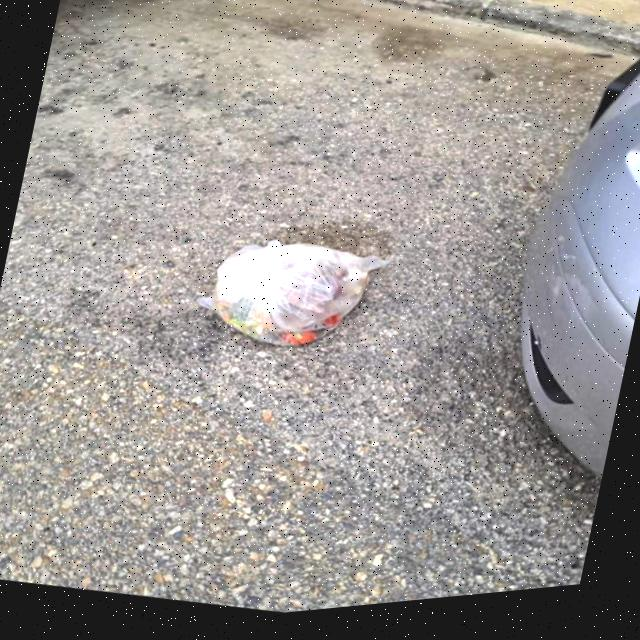Organic Waste -White Bag-: (204, 226, 392, 380)
